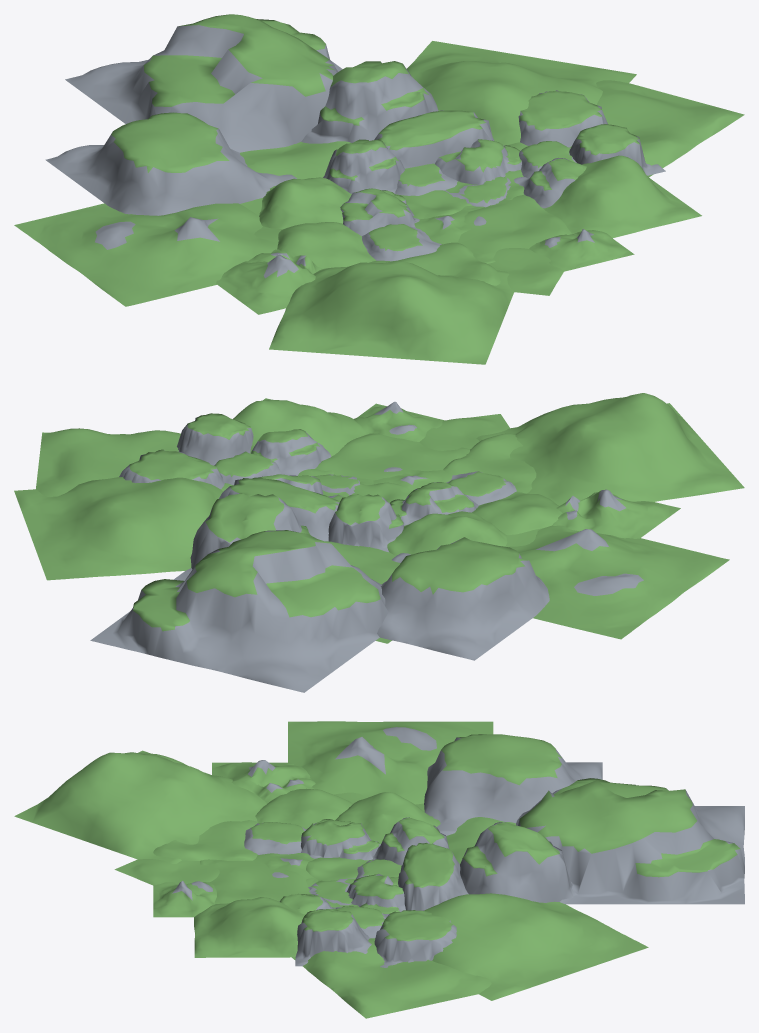
Rendered from free_pack_-_modular_terrain.glb.
3 views of the same model, one above another, from view 1: azimuth 30°, elevation 25°; view 2: azimuth 150°, elevation 25°; view 3: azimuth 270°, elevation 25° (orthographic). The views are drawn at different scales.
Visible parts, largest first — view 1: SM_Cliffs_18, SM_Hills_04, SM_Mountains_14, SM_Cliffs_16, SM_Hills_05, SM_Hills_02, SM_Cliffs_15, SM_Terrain_12, SM_Cliffs_09, SM_Terrain_07, SM_Mountains_12, SM_Hills_01 (+17 smaller); view 2: SM_Cliffs_18, SM_Hills_04, SM_Hills_05, SM_Cliffs_16, SM_Mountains_14, SM_Terrain_12, SM_Terrain_07, SM_Cliffs_15, SM_Hills_02, SM_Mountains_12, SM_Cliffs_11, SM_Hills_01 (+16 smaller); view 3: SM_Cliffs_18, SM_Hills_04, SM_Hills_05, SM_Mountains_14, SM_Cliffs_16, SM_Terrain_12, SM_Cliffs_15, SM_Hills_02, SM_Cliffs_09, SM_Cliffs_12, SM_Terrain_07, SM_Cliffs_06 (+17 smaller).
Part boxes in pixels (x1,y1,x2,y2): SM_Cliffs_18: (65, 14, 342, 152); SM_Hills_04: (269, 260, 514, 364); SM_Mountains_14: (14, 203, 277, 306); SM_Cliffs_16: (45, 112, 296, 215); SM_Hills_05: (407, 41, 636, 145); SM_Hills_02: (523, 155, 701, 237); SM_Cliffs_15: (301, 61, 438, 143); SM_Terrain_12: (570, 80, 744, 177); SM_Cliffs_09: (374, 110, 494, 168); SM_Terrain_07: (457, 195, 571, 263); SM_Mountains_12: (216, 249, 322, 314); SM_Hills_01: (259, 177, 351, 229); SM_Cliffs_18: (90, 530, 388, 692); SM_Hills_04: (476, 393, 744, 505); SM_Hills_05: (14, 477, 223, 580); SM_Cliffs_16: (377, 537, 549, 660); SM_Mountains_14: (508, 525, 729, 639); SM_Terrain_12: (36, 428, 180, 496); SM_Terrain_07: (316, 433, 469, 480); SM_Cliffs_15: (190, 493, 310, 569); SM_Hills_02: (233, 398, 369, 468); SM_Mountains_12: (552, 489, 680, 538); SM_Cliffs_11: (328, 494, 406, 552); SM_Hills_01: (387, 511, 507, 555); SM_Cliffs_18: (516, 778, 744, 904); SM_Hills_04: (14, 750, 266, 863); SM_Hills_05: (424, 893, 648, 1000); SM_Mountains_14: (288, 721, 493, 804); SM_Cliffs_16: (424, 734, 602, 835); SM_Terrain_12: (292, 938, 491, 1018); SM_Cliffs_15: (460, 822, 577, 902); SM_Hills_02: (194, 897, 304, 957); SM_Cliffs_09: (398, 843, 468, 910); SM_Cliffs_12: (374, 910, 456, 967); SM_Terrain_07: (200, 859, 311, 903); SM_Cliffs_06: (295, 909, 371, 966).
Size of the model in its own units: 92.75 by 9.21 by 96.49.
Materials: 1 (1 with a texture image).
